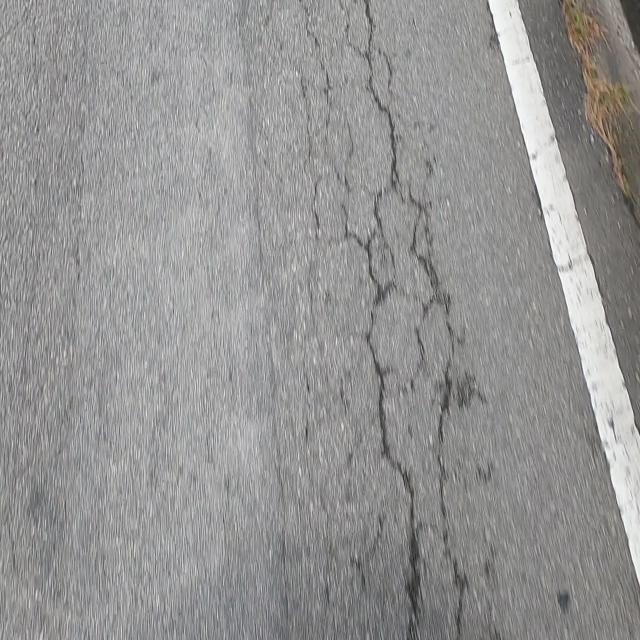Retak-Buaya: (296, 0, 468, 636)
